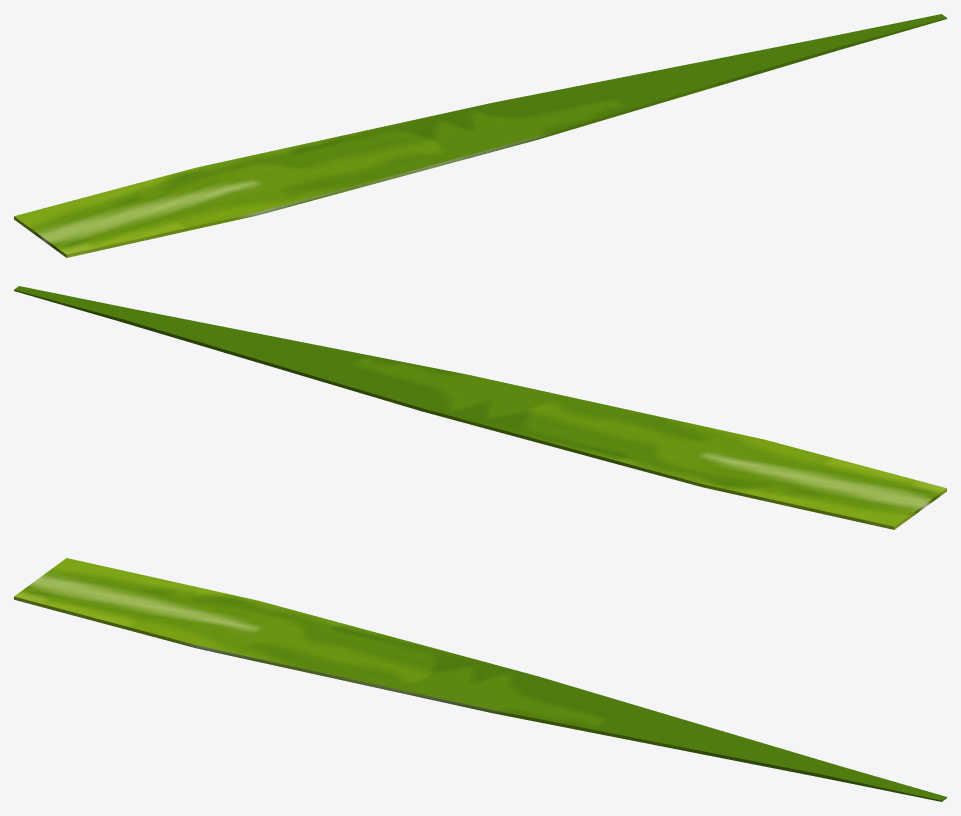
File: PandanLeaf.fbx
3 views of the same model, one above another, from view 1: azimuth 30°, elevation 25°; view 2: azimuth 150°, elevation 25°; view 3: azimuth 330°, elevation 25° (orthographic).
Visible parts, largest first — view 1: SmallPandanLeaf; view 2: SmallPandanLeaf; view 3: SmallPandanLeaf.
Boxes of the visible parts, box(x1,y1,x2,y2) form: SmallPandanLeaf: box(14, 14, 946, 257); SmallPandanLeaf: box(14, 286, 946, 529); SmallPandanLeaf: box(14, 558, 946, 801).
Bounding box in the file's own units: 32.78 × 0.112 × 3.84.
Materials: 1 (1 with a texture image).
